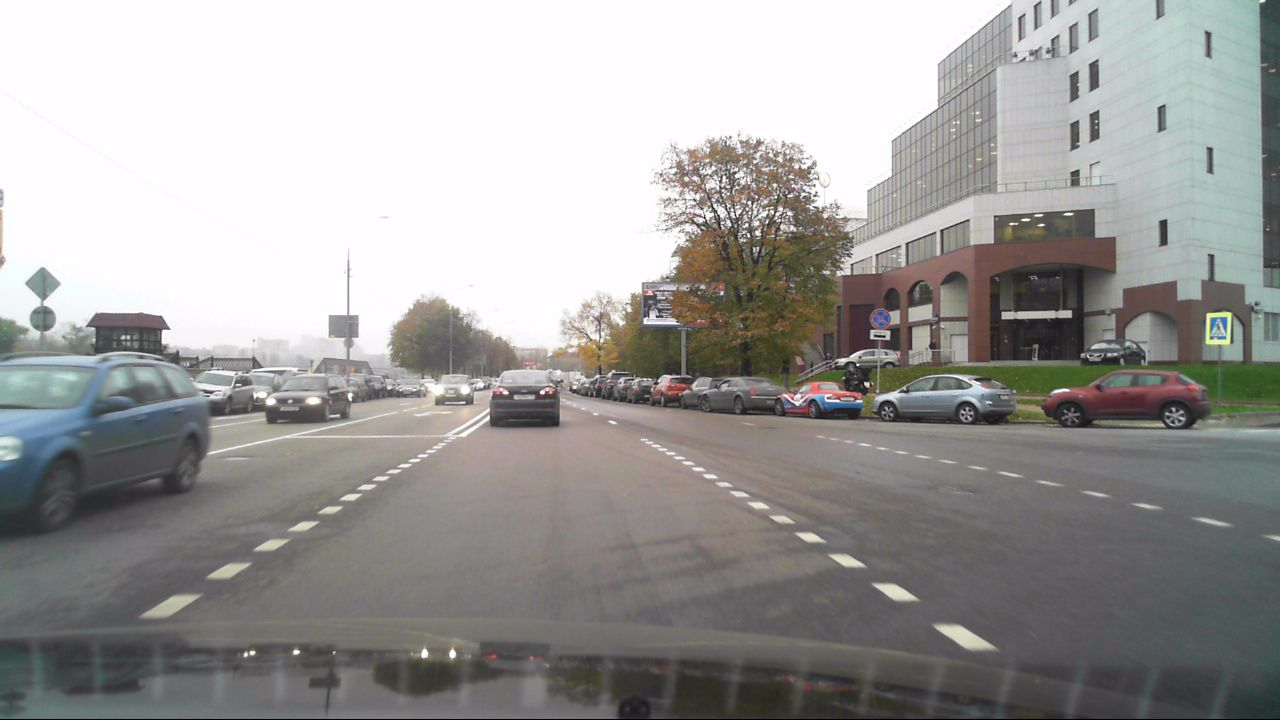No Parking: (868, 307, 892, 329)
